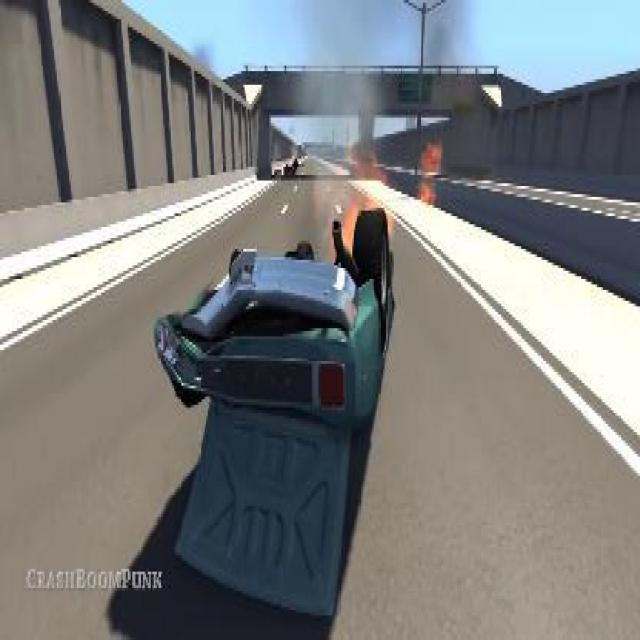accident: (150, 178, 396, 640)
